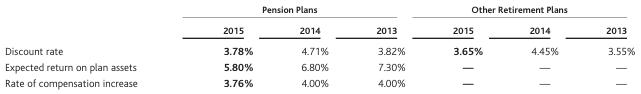table: (4, 3, 634, 88)
table column: (4, 3, 179, 88), (179, 3, 275, 88), (351, 3, 428, 88), (428, 3, 505, 88), (275, 3, 351, 88), (505, 3, 581, 88), (581, 3, 634, 88)
table column header: (4, 3, 634, 39)
table row: (4, 19, 634, 39), (4, 39, 634, 58), (4, 3, 634, 19), (4, 58, 634, 74), (4, 74, 634, 88)
table spanning cell: (179, 3, 428, 19), (428, 3, 634, 19)
